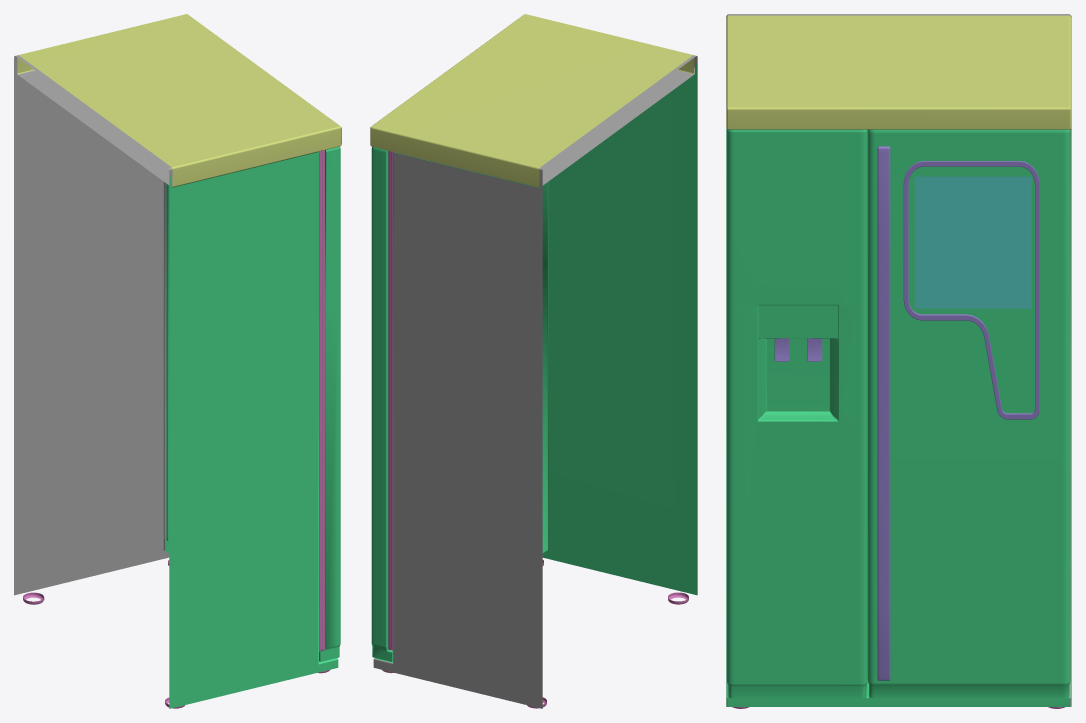
The model's file is Refrigerator_mesh.fbx.
3 renders of one model, left to right at view 1: azimuth 30°, elevation 25°; view 2: azimuth 150°, elevation 25°; view 3: azimuth 270°, elevation 25°, orthographic. The views are drawn at different scales.
Visible parts, largest first — view 1: Refrigerator_mesh; view 2: Refrigerator_mesh; view 3: Refrigerator_mesh.
Part boxes in pixels (x1,y1,x2,y2): Refrigerator_mesh: (14, 14, 341, 708); Refrigerator_mesh: (370, 14, 697, 708); Refrigerator_mesh: (726, 14, 1071, 708).
Bounding box in the file's own units: 66.13 × 183 × 94.72.
